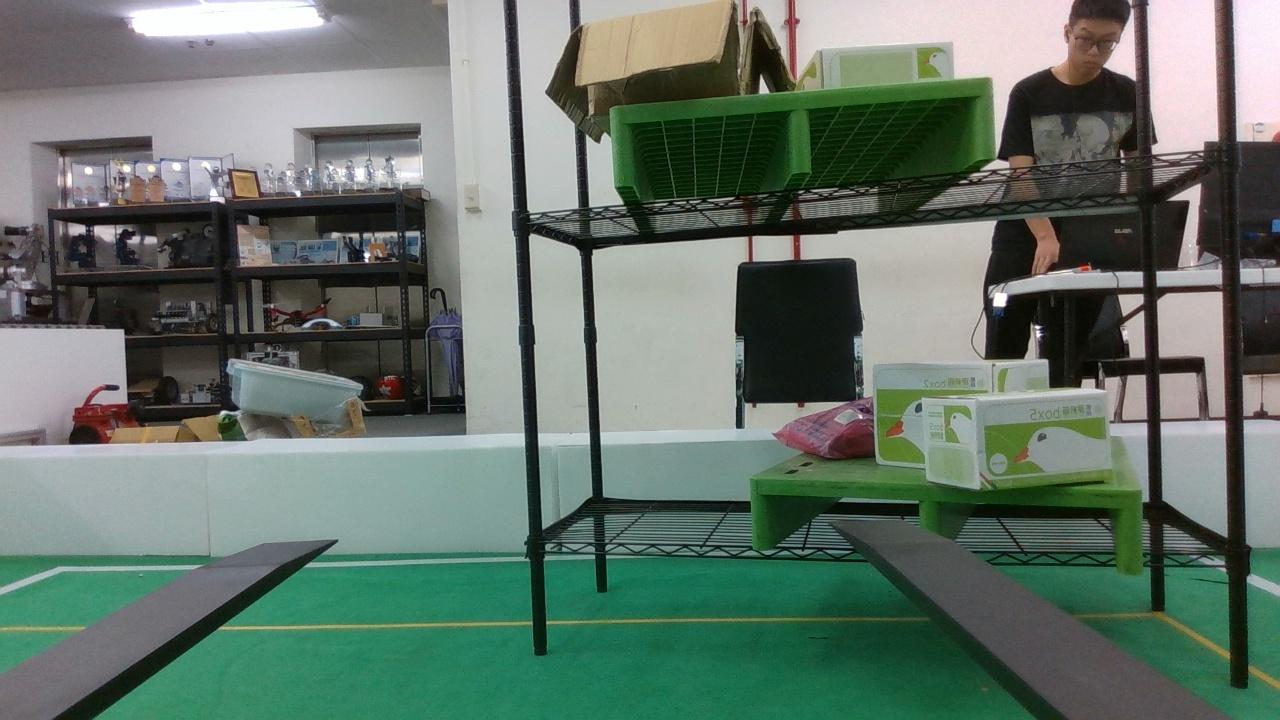Pallet: (610, 79, 1005, 192), (749, 469, 1145, 574)
